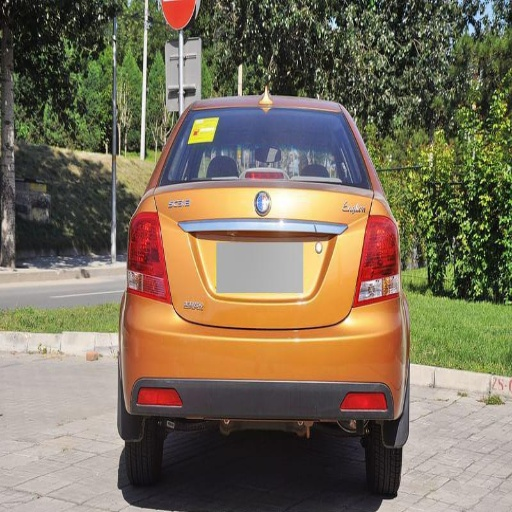back_bumper: (119, 292, 408, 431)
